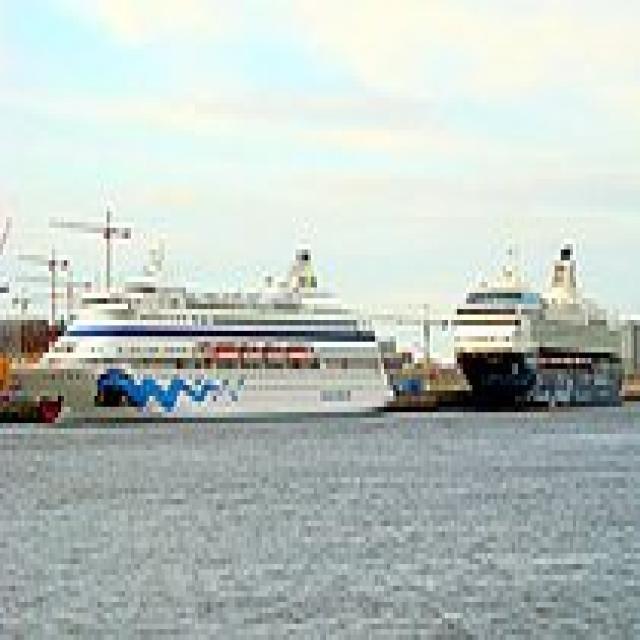Cruise: (0, 238, 393, 418), (445, 233, 622, 412)
